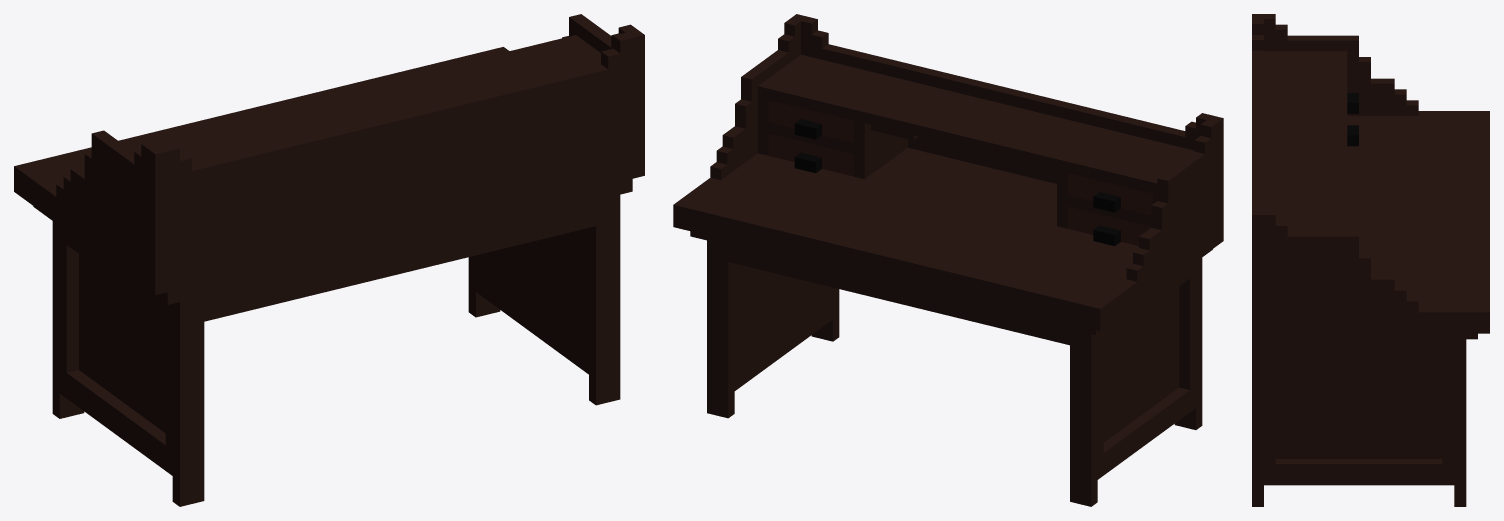
Rendered from desk.obj.
3 views of the same model, side by side, from view 1: azimuth 30°, elevation 25°; view 2: azimuth 150°, elevation 25°; view 3: azimuth 270°, elevation 25° (orthographic). The views are drawn at different scales.
Size of the model in its own units: 4 by 2.8 by 2.
1 material, 1 textured.
